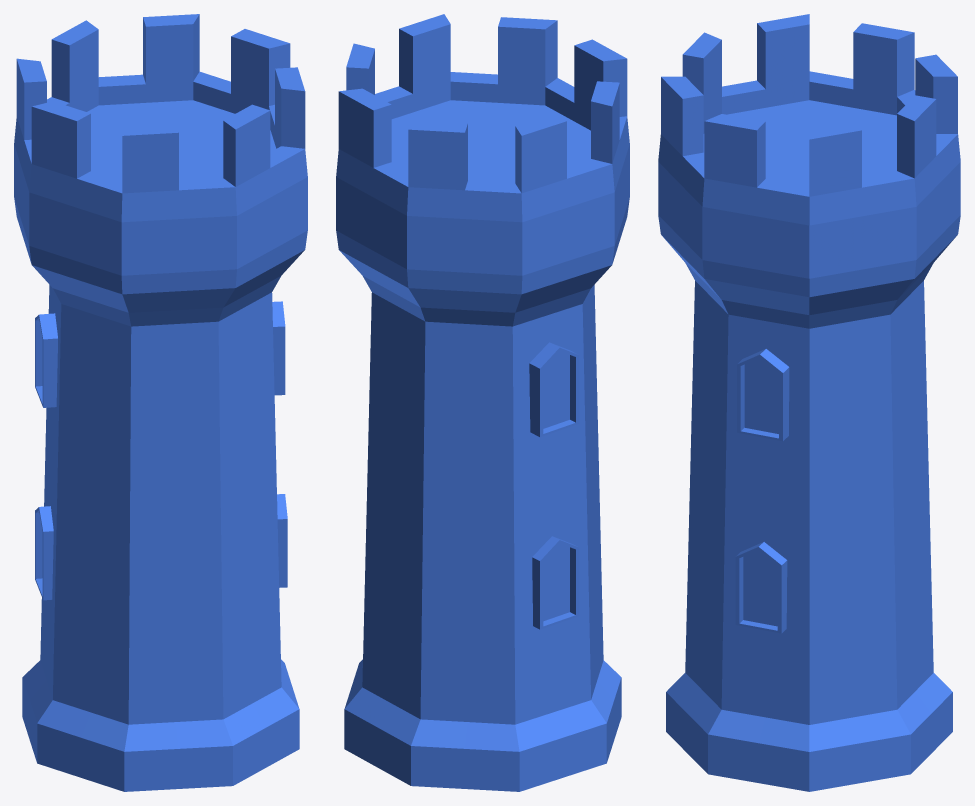
Rendered from Tower_Stone_Variant2.fbx.
3 renders of one model, left to right at view 1: azimuth 30°, elevation 25°; view 2: azimuth 150°, elevation 25°; view 3: azimuth 270°, elevation 25°, orthographic.
Parts seen in each view (by area): view 1: Tower_Stone_Variant2; view 2: Tower_Stone_Variant2; view 3: Tower_Stone_Variant2.
Boxes of the visible parts, bbox=[...] form: Tower_Stone_Variant2: bbox=[14, 14, 307, 791]; Tower_Stone_Variant2: bbox=[336, 14, 629, 791]; Tower_Stone_Variant2: bbox=[658, 14, 960, 791].
Size of the model in its own units: 244 by 582 by 244.
